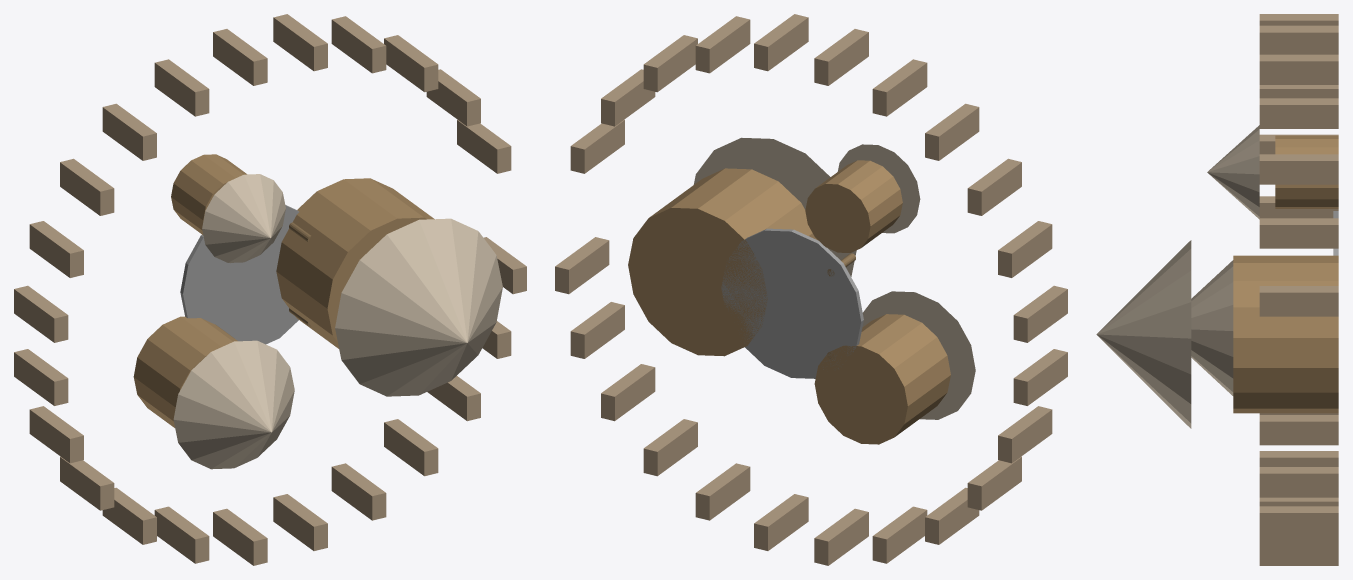
File: traditional_architecture.glb
The picture shows the model from 3 angles, left to right: view 1: azimuth 30°, elevation 25°; view 2: azimuth 150°, elevation 25°; view 3: azimuth 270°, elevation 25°; orthographic projection. The views are drawn at different scales.
Parts seen in each view (by area): view 1: world; view 2: world; view 3: world.
Part boxes in pixels (x1,y1,x2,y2): world: [14, 14, 526, 565]; world: [555, 14, 1067, 565]; world: [1096, 14, 1338, 565].
Bounding box in the file's own units: 10.13 × 10.33 × 4.6.
